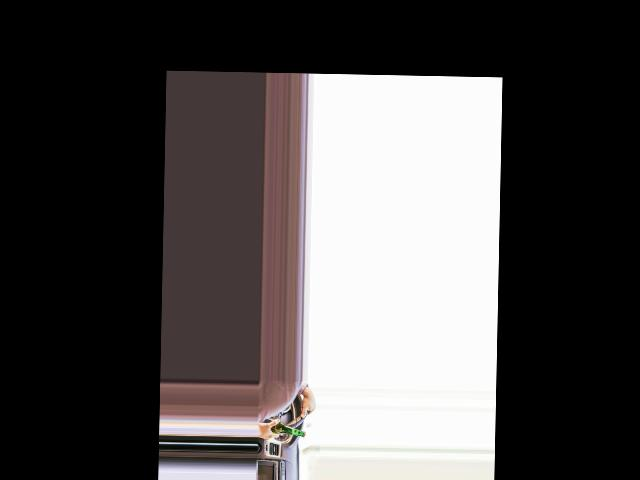beer: (258, 416, 305, 437)
